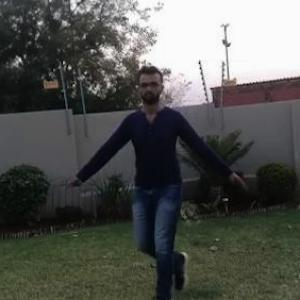land: (73, 65, 242, 296)
